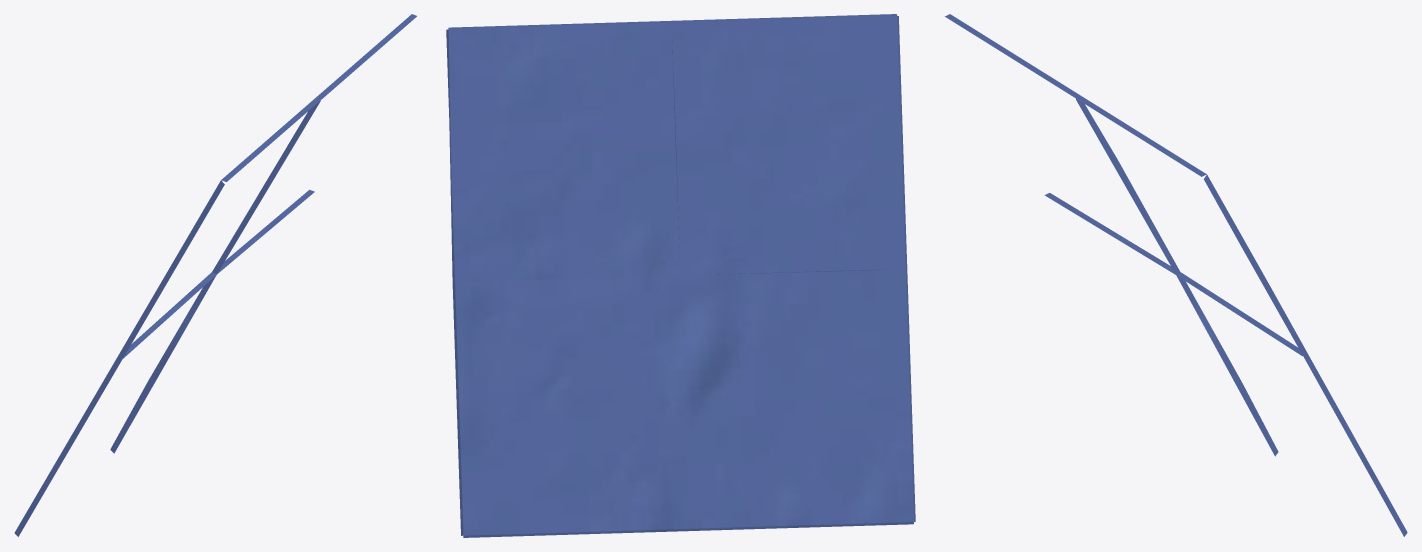
3 renders of one model, left to right at view 1: azimuth 30°, elevation 25°; view 2: azimuth 150°, elevation 25°; view 3: azimuth 270°, elevation 25°, orthographic. The views are drawn at different scales.
Size of the model in its own units: 78648 by 69969 by 70161.
1 material, 1 textured.
